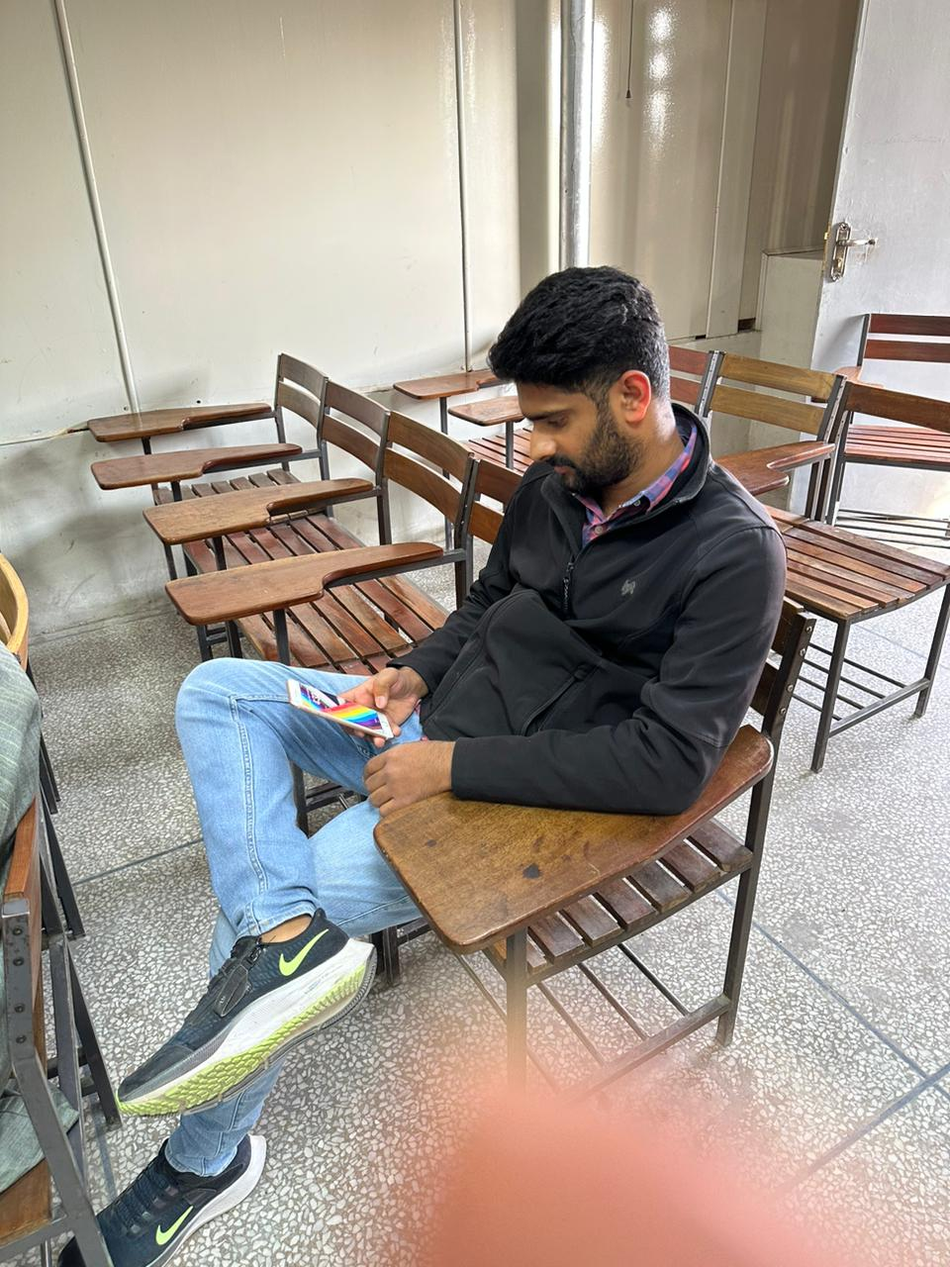phone: (285, 662, 430, 749)
